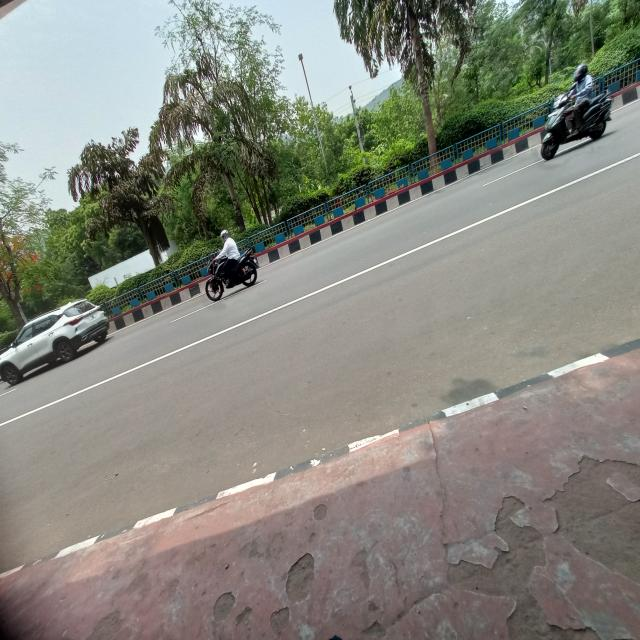bike: (539, 95, 607, 161), (203, 256, 266, 302)
car: (0, 303, 122, 381)
